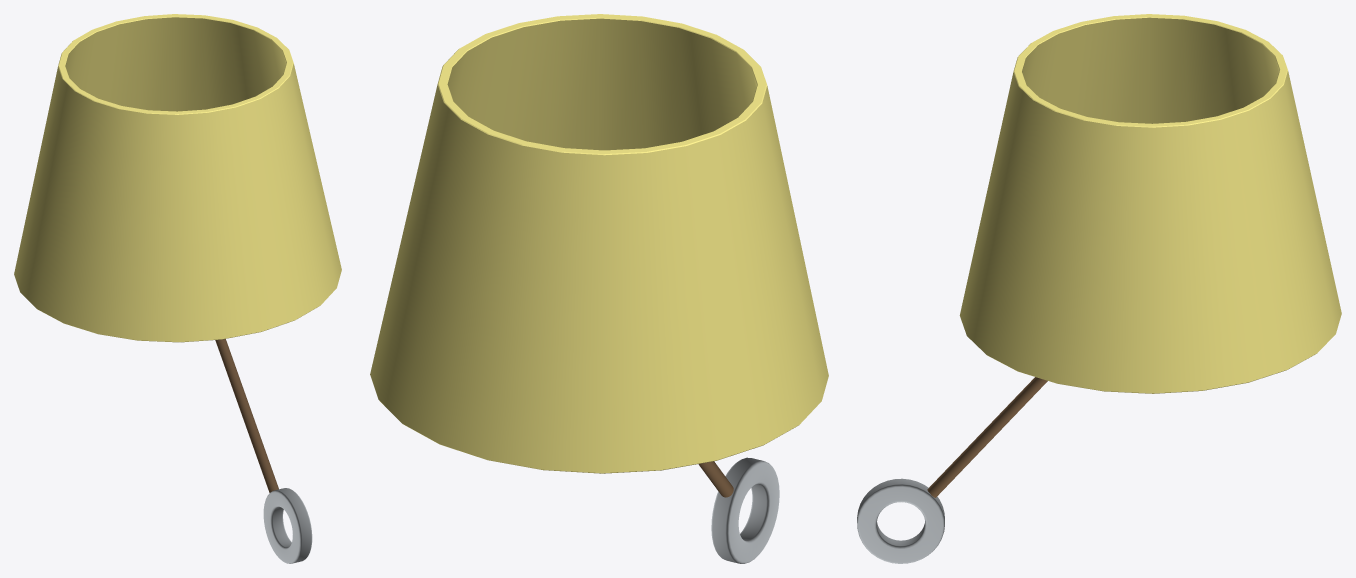
The model's file is lamp1.obj.
3 renders of one model, left to right at view 1: azimuth 30°, elevation 25°; view 2: azimuth 150°, elevation 25°; view 3: azimuth 270°, elevation 25°, orthographic. The views are drawn at different scales.
Parts seen in each view (by area): view 1: lamp2:polySurface23; view 2: lamp2:polySurface23; view 3: lamp2:polySurface23.
Part boxes in pixels (x1,y1,x2,y2): lamp2:polySurface23: [14, 14, 341, 563]; lamp2:polySurface23: [370, 14, 828, 563]; lamp2:polySurface23: [857, 14, 1341, 563].
Size of the model in its own units: 1.48 by 2.09 by 1.87.
